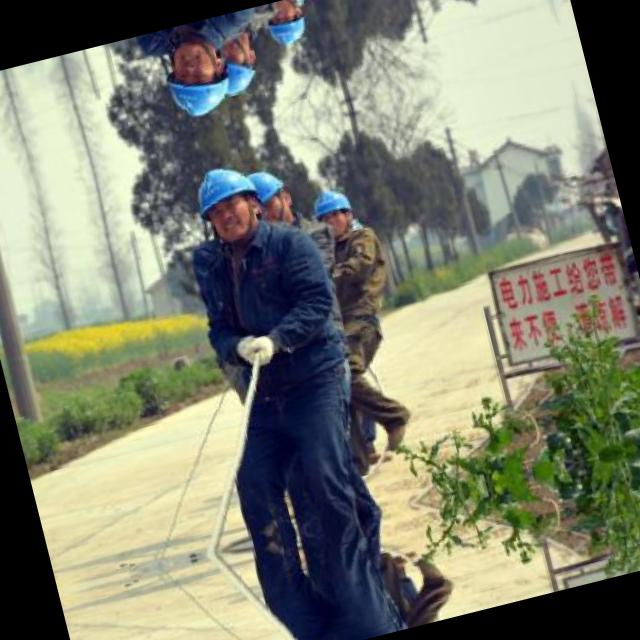helmet: (184, 152, 276, 250), (153, 27, 245, 125), (211, 35, 268, 100), (242, 157, 298, 222), (304, 182, 358, 240), (256, 0, 312, 51)
